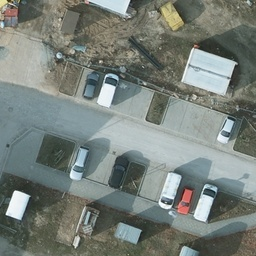car: (79, 71, 106, 100), (69, 146, 89, 180), (107, 157, 128, 187), (176, 184, 193, 217), (217, 118, 235, 145)
van: (194, 183, 223, 223), (92, 75, 126, 109), (158, 167, 181, 210)
